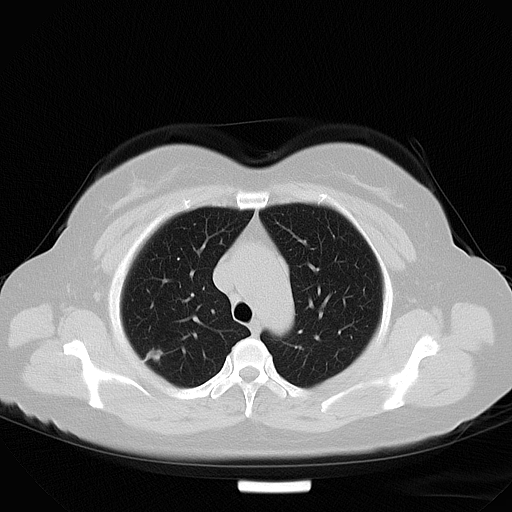nodule: (142, 348, 164, 362)
